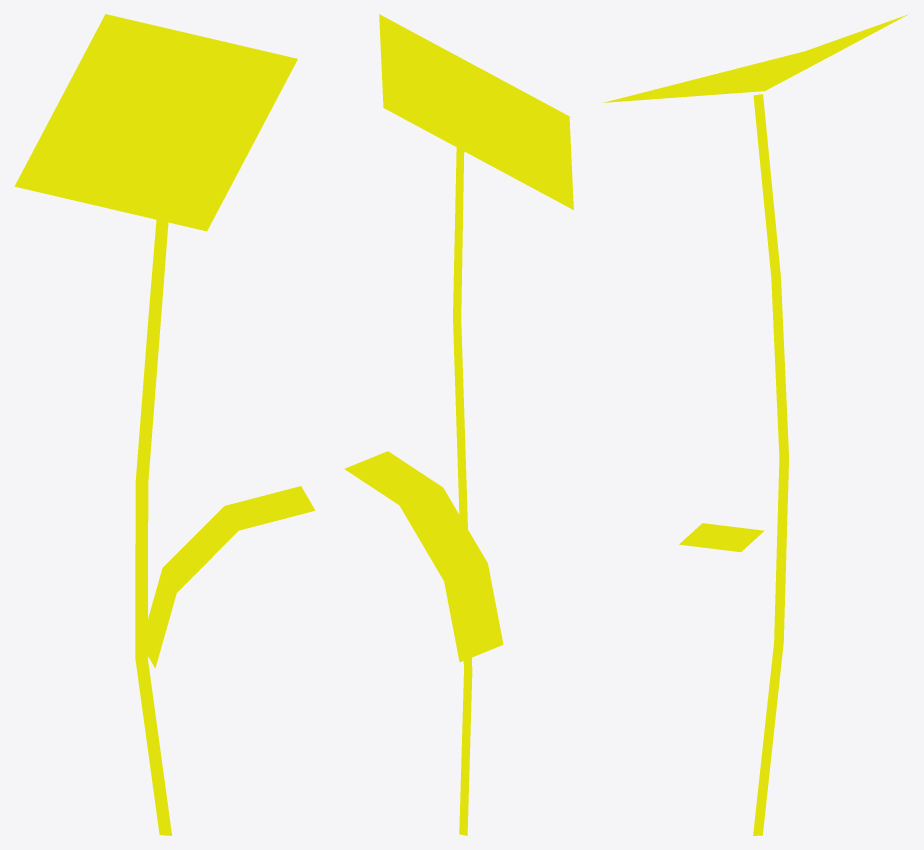
Rendered from Foliage_Flowers_Purple_Flower_Purple_High.glb.
The picture shows the model from 3 angles, left to right: view 1: azimuth 30°, elevation 25°; view 2: azimuth 150°, elevation 25°; view 3: azimuth 270°, elevation 25°; orthographic projection. The views are drawn at different scales.
Visible parts, largest first — view 1: purple.high; view 2: purple.high; view 3: purple.high.
Boxes of the visible parts, bbox=[...] form: purple.high: bbox=[14, 14, 315, 835]; purple.high: bbox=[344, 14, 573, 835]; purple.high: bbox=[603, 14, 907, 835].
Size of the model in its own units: 0.07 by 0.1996 by 0.0674.
Materials: 1 (1 with a texture image).
